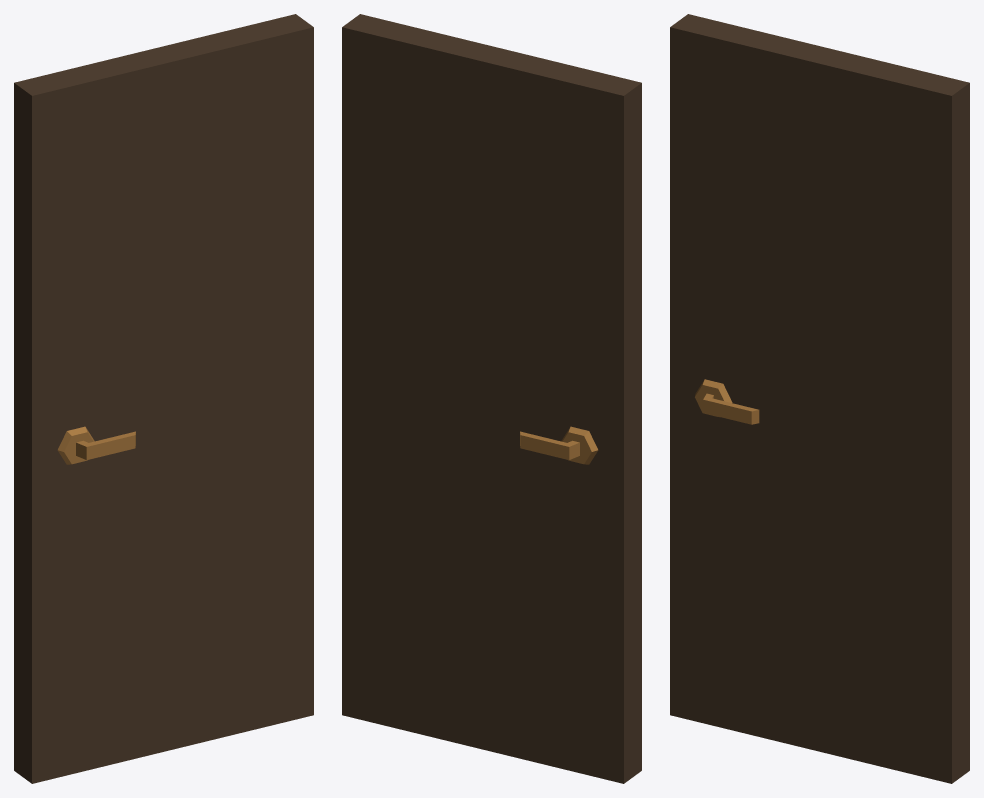
File: buildings_door-house-simple.fbx
3 renders of one model, left to right at view 1: azimuth 30°, elevation 25°; view 2: azimuth 150°, elevation 25°; view 3: azimuth 330°, elevation 25°, orthographic.
Parts seen in each view (by area): view 1: buildings_door_house_simple; view 2: buildings_door_house_simple; view 3: buildings_door_house_simple.
Boxes of the visible parts, x1,y1,x2,y2 form: buildings_door_house_simple: (14, 14, 313, 783); buildings_door_house_simple: (342, 14, 641, 783); buildings_door_house_simple: (670, 14, 969, 783).
Bounding box in the file's own units: 81.82 × 191 × 20.
